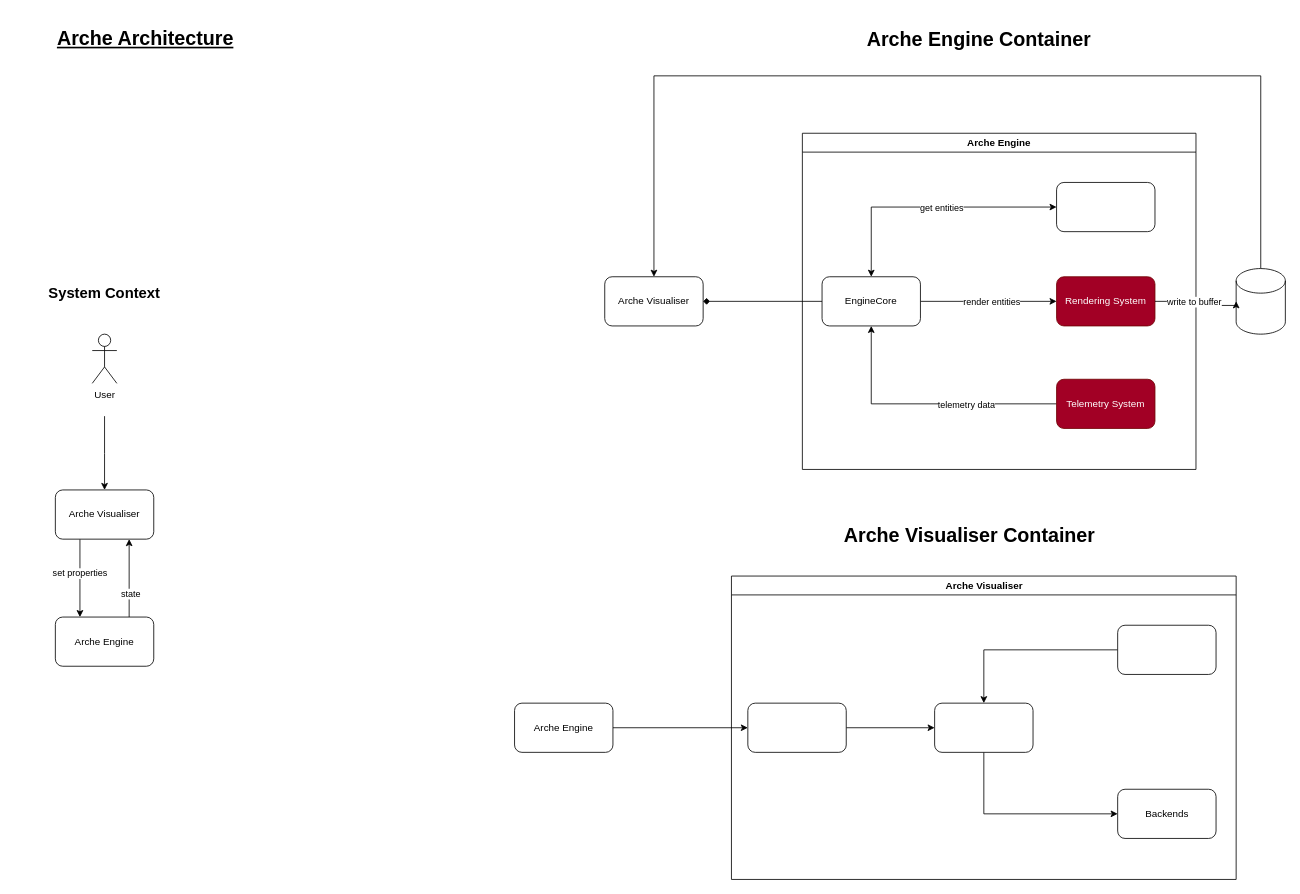
This 1300x894 diagram has some shape labels left out. Each missing label, with the box of its shape:
Application: (747, 702, 846, 752)
GPU Buffer: (1235, 268, 1285, 334)
GUI Core: (934, 702, 1033, 752)
Panels: (1117, 624, 1216, 674)
World System: (1056, 182, 1155, 232)
